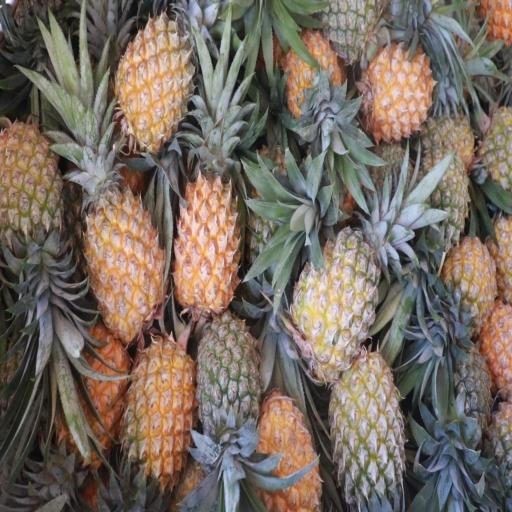------------------------------: (331, 356, 405, 509), (296, 230, 374, 374)
Pineapple - v8 v1: (86, 166, 161, 334), (117, 17, 192, 145), (126, 341, 194, 482), (174, 173, 238, 320), (0, 118, 63, 264), (60, 334, 128, 460), (254, 398, 320, 511), (362, 46, 431, 139), (443, 240, 495, 336), (286, 30, 343, 117)
